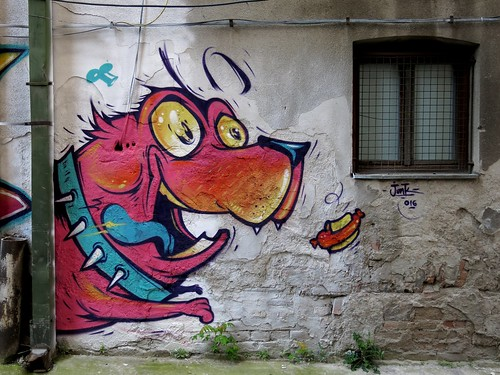graffiti: (55, 49, 360, 362)
window: (357, 41, 464, 169)
